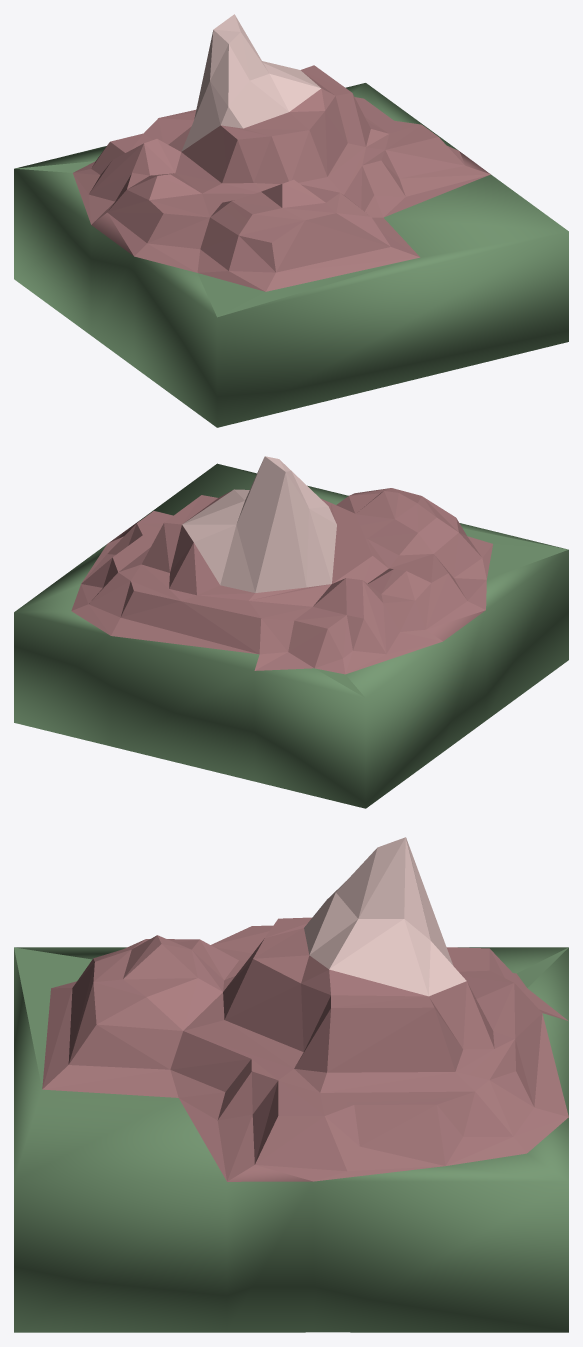
File: FIXED_Mountain.fbx
The picture shows the model from 3 angles, top to bottom: view 1: azimuth 30°, elevation 25°; view 2: azimuth 150°, elevation 25°; view 3: azimuth 270°, elevation 25°; orthographic projection. The views are drawn at different scales.
Parts seen in each view (by area): view 1: Mountain; view 2: Mountain; view 3: Mountain.
Boxes of the visible parts, x1=… form: Mountain: x1=14, y1=14, x2=568, y2=427; Mountain: x1=14, y1=456, x2=568, y2=808; Mountain: x1=14, y1=837, x2=568, y2=1332.
Size of the model in its own units: 2000 by 1465 by 2000.
